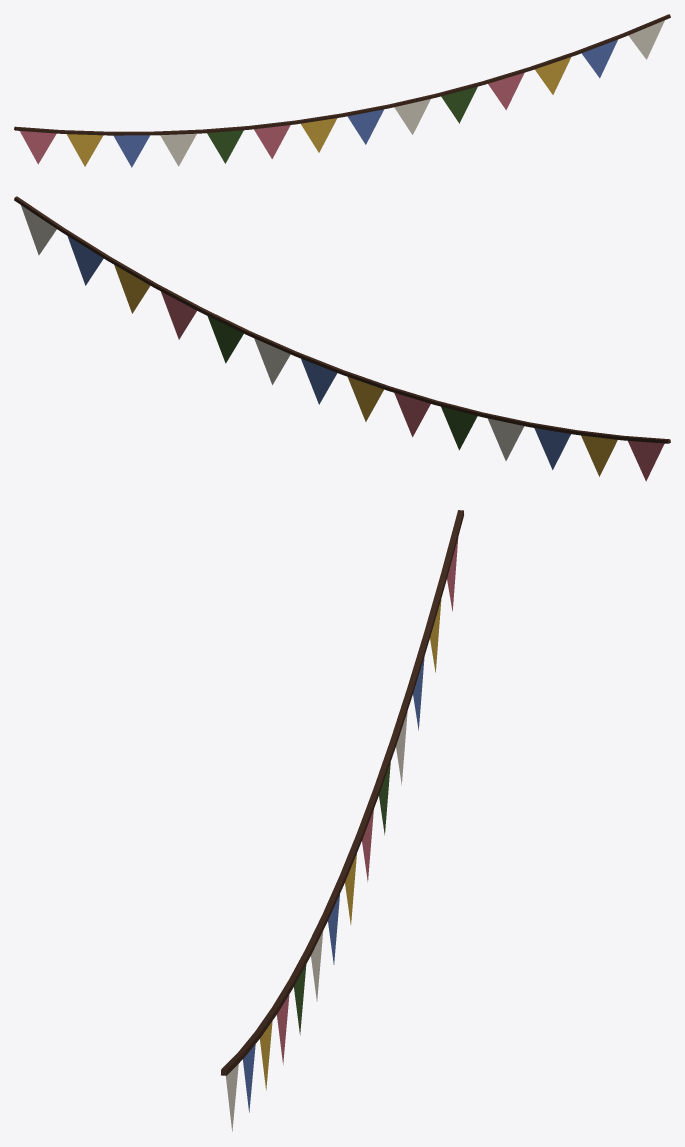
The model's file is scene_bunting_0.glb.
The picture shows the model from 3 angles, top to bottom: view 1: azimuth 30°, elevation 25°; view 2: azimuth 150°, elevation 25°; view 3: azimuth 270°, elevation 25°; orthographic projection. The views are drawn at different scales.
Visible parts, largest first — view 1: scene_bunting_0; view 2: scene_bunting_0; view 3: scene_bunting_0.
Boxes of the visible parts, <box> form: scene_bunting_0: <box>14,14,670,167</box>; scene_bunting_0: <box>14,196,670,481</box>; scene_bunting_0: <box>221,510,463,1131</box>.
Bounding box in the file's own units: 5.81 × 0.7816 × 1.03.
